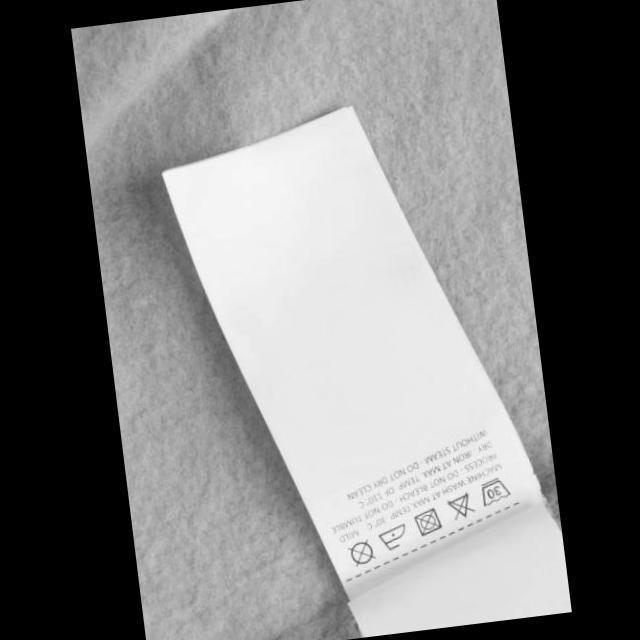30C: (476, 474, 512, 508)
DN_bleach: (442, 489, 476, 524)
DN_dry_clean: (344, 538, 377, 568)
DN_tumble_dry: (410, 506, 443, 538)
iron_low: (373, 519, 409, 555)
